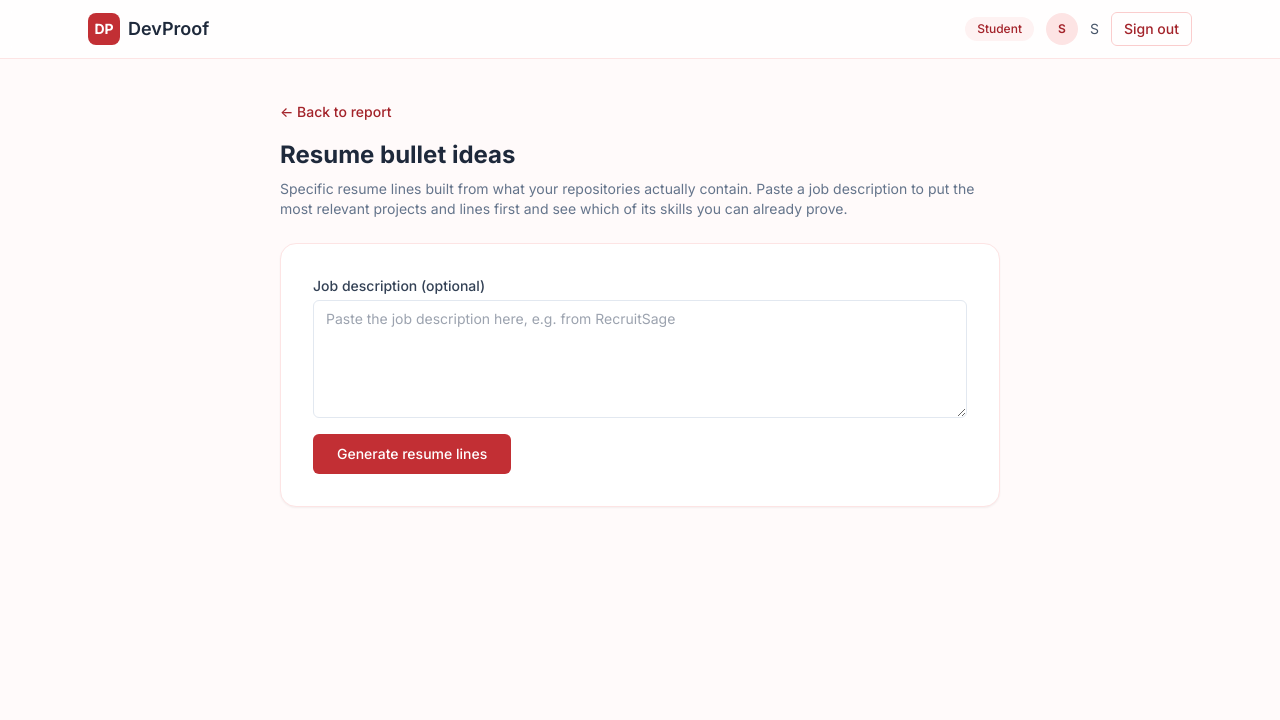
Test: ResumeBullets page › works without a job description
Click the button "Generate resume lines" at (412, 454), box x1=313 y1=434 x2=511 y2=474
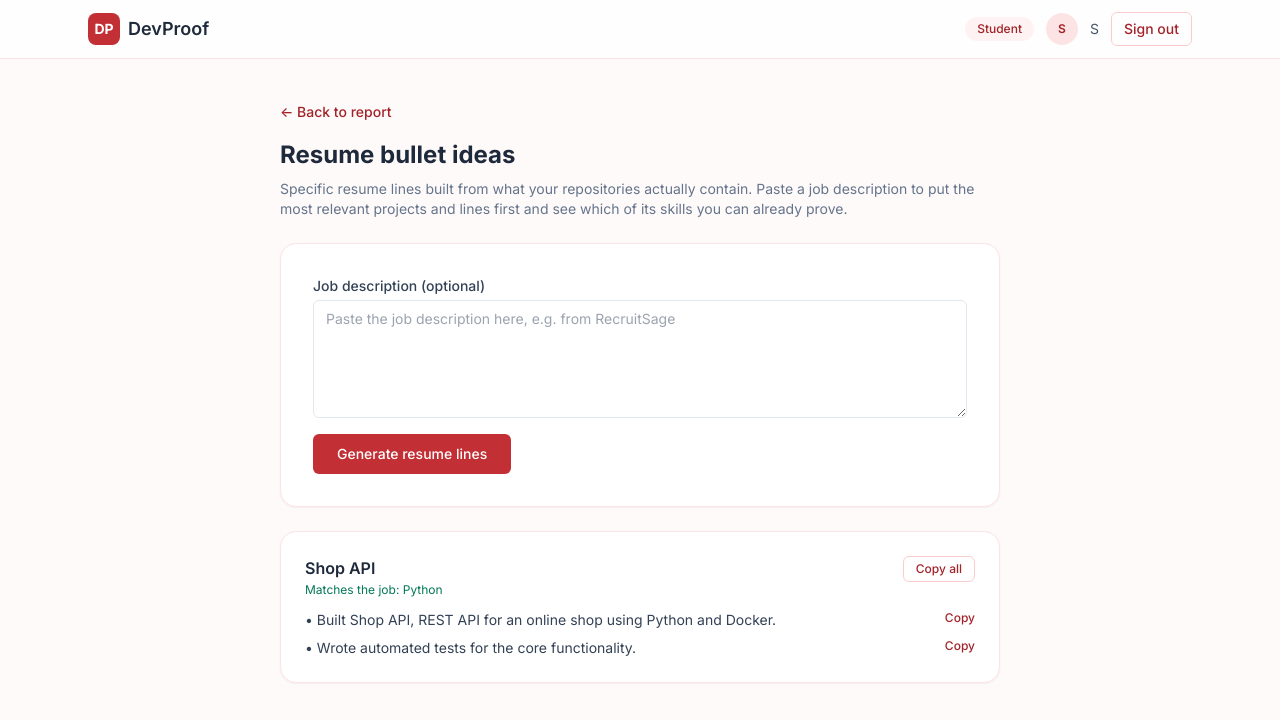
Expected: the text "• Wrote automated tests for the core functionality." is shown, x1=305 y1=638 x2=636 y2=658
